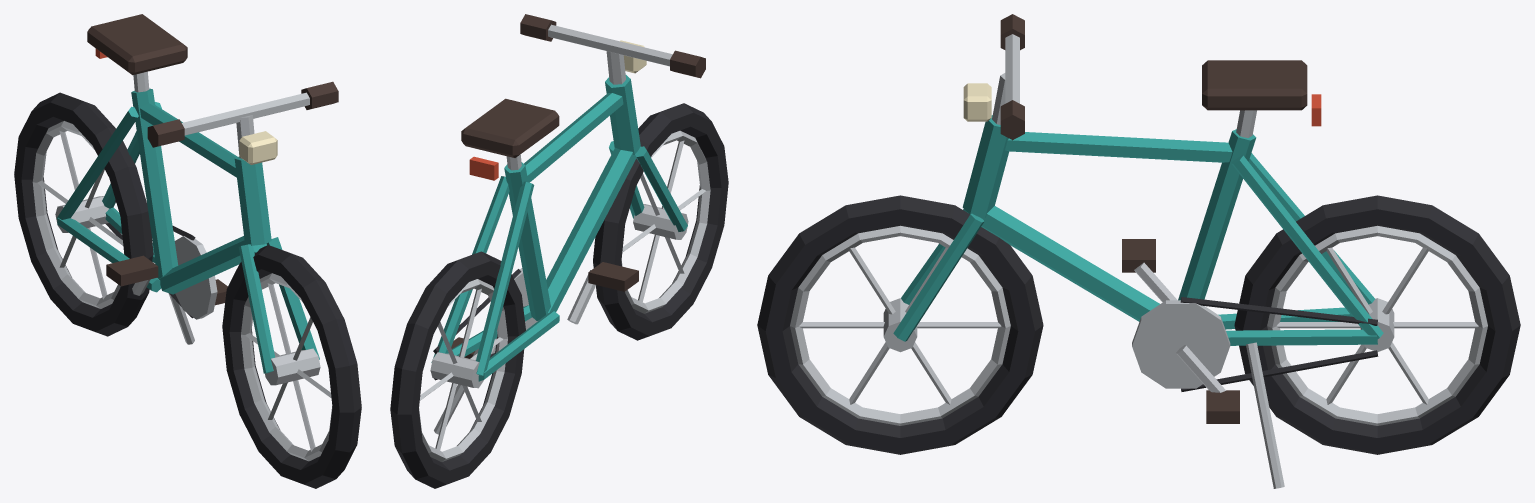
The model's file is bike.glb.
3 views of the same model, side by side, from view 1: azimuth 30°, elevation 25°; view 2: azimuth 150°, elevation 25°; view 3: azimuth 270°, elevation 25° (orthographic). The views are drawn at different scales.
Parts seen in each view (by area): view 1: Bike_Tire_F, Bike_Tire_B, Bike_Saddle, Bike_SeatTube, Bike_Rim_B, Bike_Rim_F, Bike_HeadTube, Bike_DownTube, Bike_Fork_L, Bike_Chainring, Bike_Handlebar, Bike_SeatStay_L (+13 smaller); view 2: Bike_Tire_B, Bike_Tire_F, Bike_DownTube, Bike_Saddle, Bike_SeatTube, Bike_SeatStay_L, Bike_Rim_F, Bike_TopTube, Bike_Rim_B, Bike_SeatStay_R, Bike_Handlebar, Bike_HeadTube (+15 smaller); view 3: Bike_Tire_F, Bike_Tire_B, Bike_Rim_F, Bike_Rim_B, Bike_Chainring, Bike_Saddle, Bike_DownTube, Bike_TopTube, Bike_SeatTube, Bike_SeatStay_R, Bike_HeadTube, Bike_Fork_R (+12 smaller).
Boxes of the visible parts, x1,y1,x2,y2 form: Bike_Tire_F: (222, 245, 361, 488); Bike_Tire_B: (14, 92, 153, 336); Bike_Saddle: (87, 14, 187, 75); Bike_SeatTube: (131, 88, 178, 278); Bike_Rim_B: (32, 121, 124, 308); Bike_Rim_F: (241, 273, 332, 461); Bike_HeadTube: (234, 156, 271, 245); Bike_DownTube: (159, 236, 266, 294); Bike_Fork_L: (238, 244, 274, 373); Bike_Chainring: (174, 236, 217, 319); Bike_Handlebar: (182, 92, 309, 135); Bike_SeatStay_L: (56, 106, 138, 219); Bike_Tire_B: (390, 251, 525, 488); Bike_Tire_F: (593, 103, 728, 340); Bike_DownTube: (546, 147, 636, 313); Bike_Saddle: (461, 98, 559, 157); Bike_SeatTube: (504, 162, 550, 320); Bike_SeatStay_L: (476, 181, 534, 375); Bike_Rim_F: (621, 130, 710, 313); Bike_TopTube: (524, 93, 623, 182); Bike_Rim_B: (419, 279, 507, 461); Bike_SeatStay_R: (431, 176, 509, 362); Bike_Handlebar: (548, 24, 672, 66); Bike_HeadTube: (605, 75, 640, 154); Bike_Tire_F: (757, 195, 1043, 454); Bike_Tire_B: (1234, 195, 1520, 454); Bike_Rim_F: (790, 225, 1010, 425); Bike_Rim_B: (1267, 225, 1487, 425); Bike_Chainring: (1132, 300, 1230, 388); Bike_Saddle: (1202, 60, 1307, 110); Bike_DownTube: (978, 206, 1159, 321); Bike_TopTube: (1005, 132, 1232, 162); Bike_SeatTube: (1178, 129, 1256, 300); Bike_SeatStay_R: (1231, 155, 1383, 339); Bike_HeadTube: (962, 115, 1009, 217); Bike_Fork_R: (893, 213, 984, 341).
Bounding box in the file's own units: 0.17 × 0.307 × 0.544.
